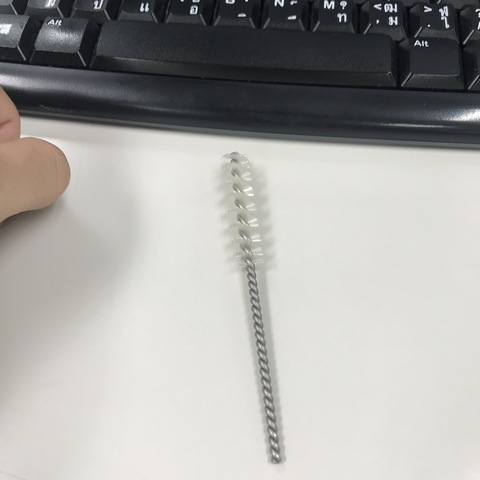Twist Brush-B: (216, 146, 289, 470)
